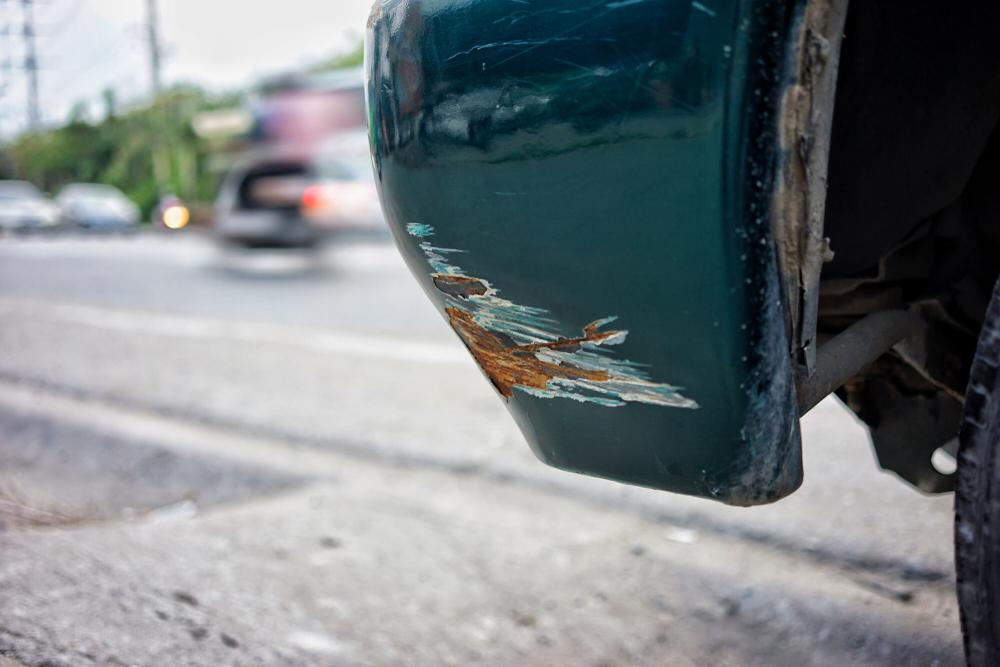scratch: (401, 219, 704, 419)
